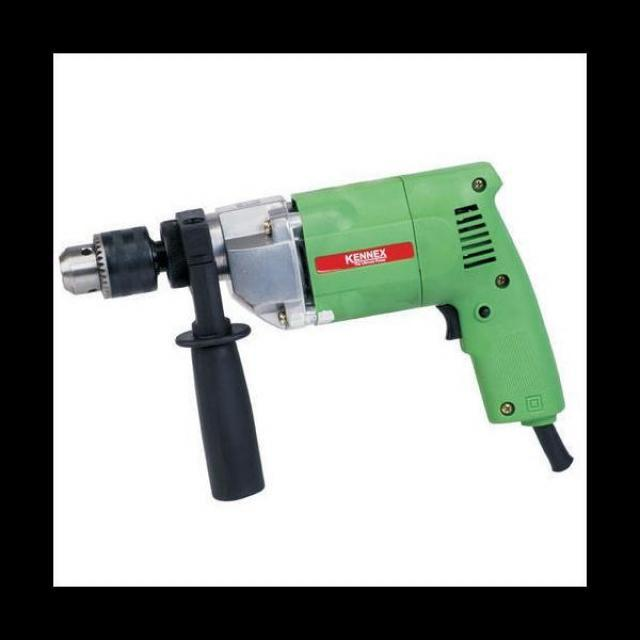drill: (58, 160, 573, 502)
